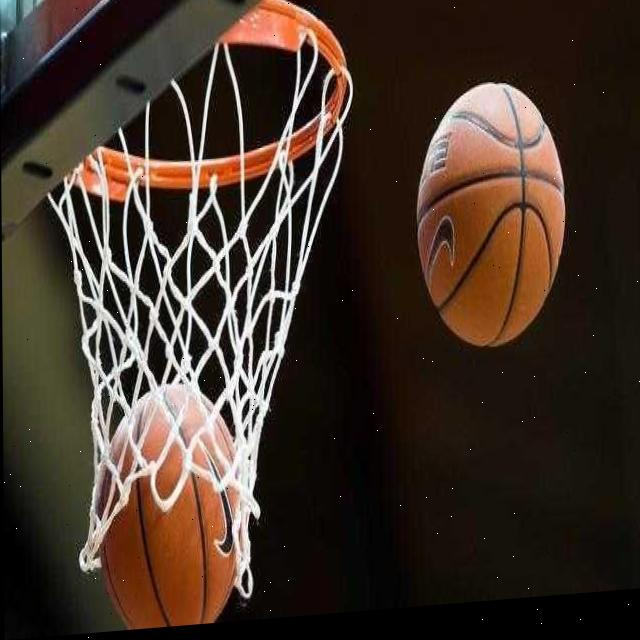basketball: (411, 70, 570, 358), (92, 373, 238, 633)
hoop: (61, 0, 361, 628), (59, 0, 358, 621)
